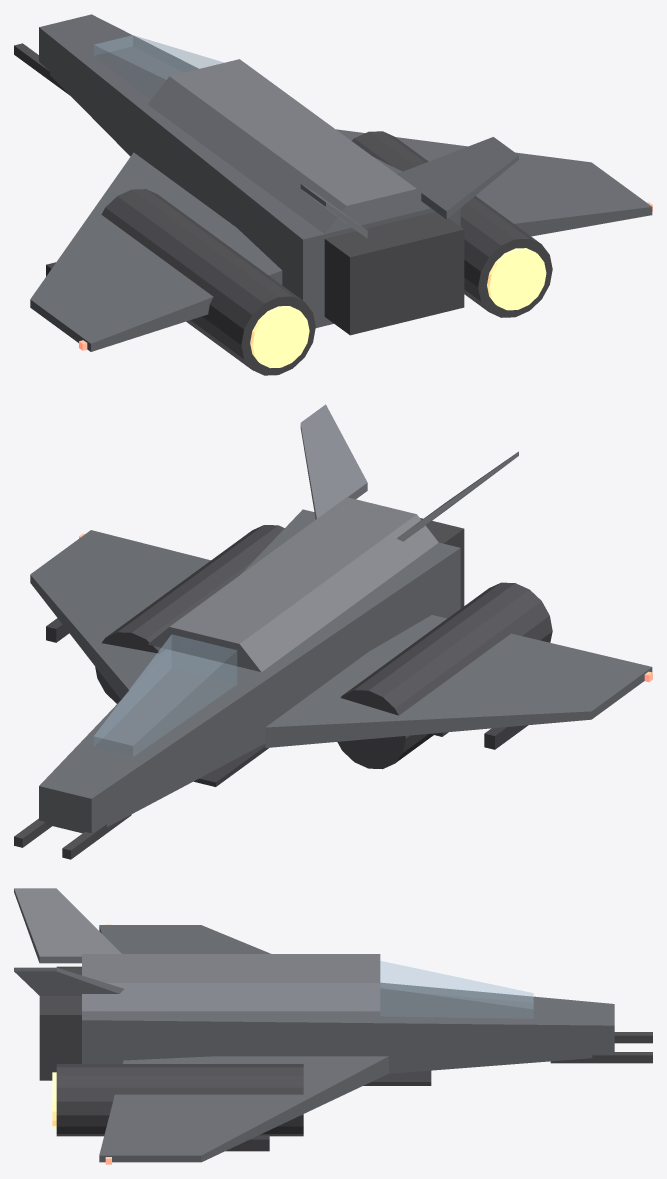
The model's file is ship_XS_BOMBER.glb.
3 renders of one model, top to bottom at view 1: azimuth 30°, elevation 25°; view 2: azimuth 150°, elevation 25°; view 3: azimuth 270°, elevation 25°, orthographic. The views are drawn at different scales.
Parts seen in each view (by area): view 1: XS_BOMBER_Hull-col, XS_BOMBER_Engines, XS_BOMBER_Armor, XS_BOMBER_EngineGlow, XS_BOMBER_Glass-col; view 2: XS_BOMBER_Hull-col, XS_BOMBER_Armor, XS_BOMBER_Engines, XS_BOMBER_Glass-col, XS_BOMBER_Trim, XS_BOMBER_BombBayDoors; view 3: XS_BOMBER_Hull-col, XS_BOMBER_Armor, XS_BOMBER_Engines, XS_BOMBER_Glass-col, XS_BOMBER_BombBayDoors, XS_BOMBER_Trim.
Part boxes in pixels (left/top/right/bottom): XS_BOMBER_Hull-col: left=30, top=14, right=652, bottom=351; XS_BOMBER_Engines: left=14, top=43, right=552, bottom=375; XS_BOMBER_Armor: left=147, top=59, right=518, bottom=238; XS_BOMBER_EngineGlow: left=250, top=248, right=546, bottom=368; XS_BOMBER_Glass-col: left=94, top=35, right=223, bottom=99; XS_BOMBER_Hull-col: left=30, top=509, right=652, bottom=833; XS_BOMBER_Armor: left=148, top=404, right=518, bottom=672; XS_BOMBER_Engines: left=14, top=518, right=552, bottom=859; XS_BOMBER_Glass-col: left=94, top=634, right=236, bottom=756; XS_BOMBER_Trim: left=46, top=618, right=527, bottom=749; XS_BOMBER_BombBayDoors: left=194, top=744, right=269, bottom=786; XS_BOMBER_Hull-col: left=82, top=925, right=614, bottom=1162; XS_BOMBER_Armor: left=14, top=888, right=380, bottom=1011; XS_BOMBER_Engines: left=39, top=966, right=652, bottom=1136; XS_BOMBER_Glass-col: left=380, top=961, right=533, bottom=1018; XS_BOMBER_BombBayDoors: left=363, top=1070, right=431, bottom=1085; XS_BOMBER_Trim: left=225, top=1135, right=269, bottom=1151.
Size of the model in its own units: 13 by 4.05 by 15.
